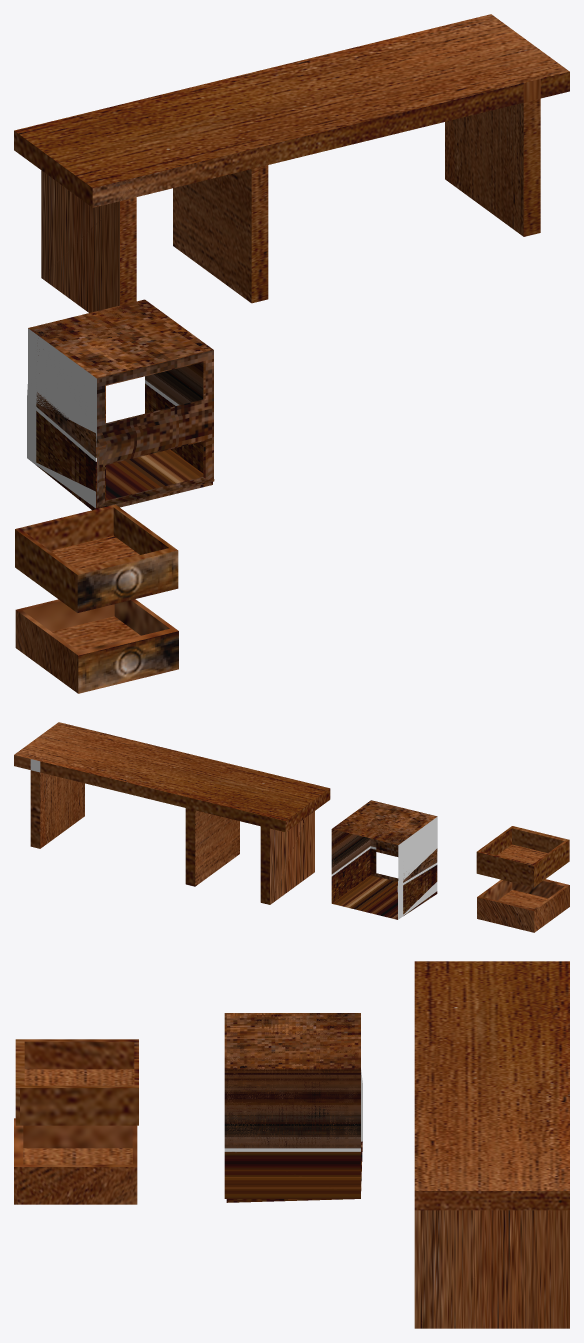
File: desk.glb
The picture shows the model from 3 angles, top to bottom: view 1: azimuth 30°, elevation 25°; view 2: azimuth 150°, elevation 25°; view 3: azimuth 270°, elevation 25°; orthographic projection. The views are drawn at different scales.
Visible parts, largest first — view 1: desk, cabinet, BOTTOMDRAWER, TOPDRAWER; view 2: desk, cabinet, BOTTOMDRAWER, TOPDRAWER; view 3: desk, cabinet, BOTTOMDRAWER, TOPDRAWER.
Part boxes in pixels (x1,y1,x2,y2): desk: (14, 14, 569, 312); cabinet: (27, 299, 214, 510); BOTTOMDRAWER: (15, 504, 178, 612); TOPDRAWER: (15, 599, 178, 693); desk: (14, 722, 330, 904); cabinet: (331, 800, 437, 919); BOTTOMDRAWER: (476, 826, 569, 887); TOPDRAWER: (477, 879, 569, 932); desk: (414, 961, 569, 1328); cabinet: (224, 1013, 362, 1202); BOTTOMDRAWER: (15, 1039, 138, 1125); TOPDRAWER: (14, 1118, 137, 1204).
Bounding box in the file's own units: 2.04 × 0.8515 × 1.43.
Materials: 4 (4 with a texture image).
